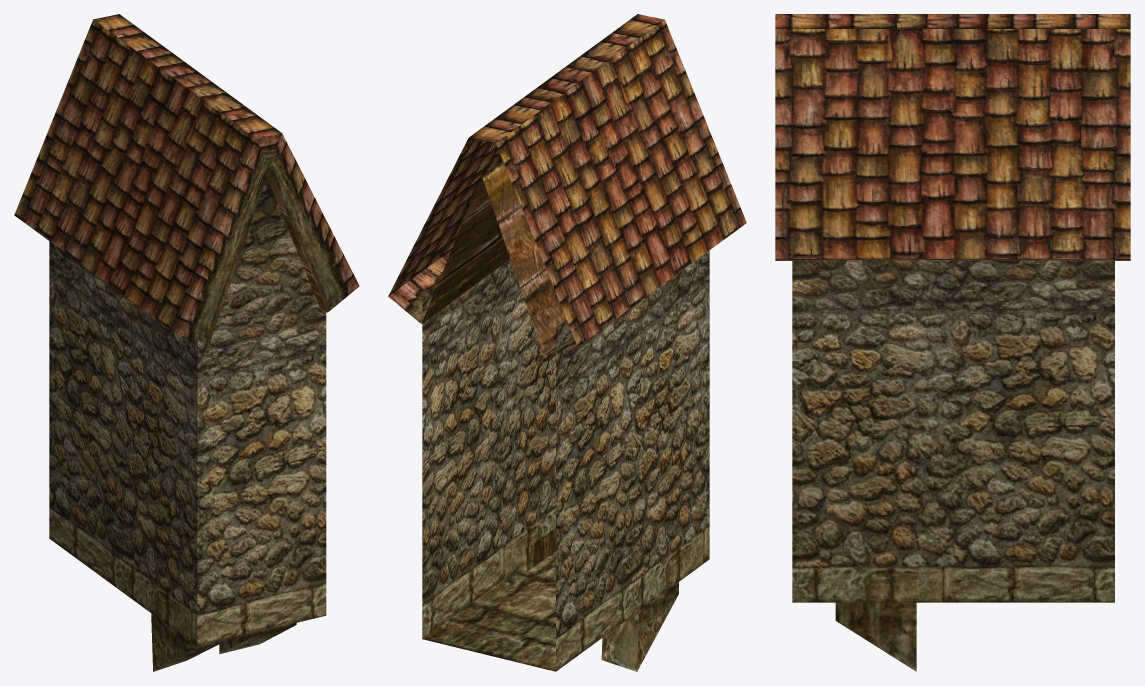
File: hrz06.glb
3 renders of one model, left to right at view 1: azimuth 30°, elevation 25°; view 2: azimuth 150°, elevation 25°; view 3: azimuth 270°, elevation 25°, orthographic. The views are drawn at different scales.
Parts seen in each view (by area): view 1: hrz06; view 2: hrz06; view 3: hrz06.
Part boxes in pixels (x1,y1,x2,y2): hrz06: (14,14,359,671); hrz06: (388,14,746,671); hrz06: (775,14,1130,671).
Bounding box in the file's own units: 2.84 × 8.49 × 4.38.
Materials: 6 (6 with a texture image).
